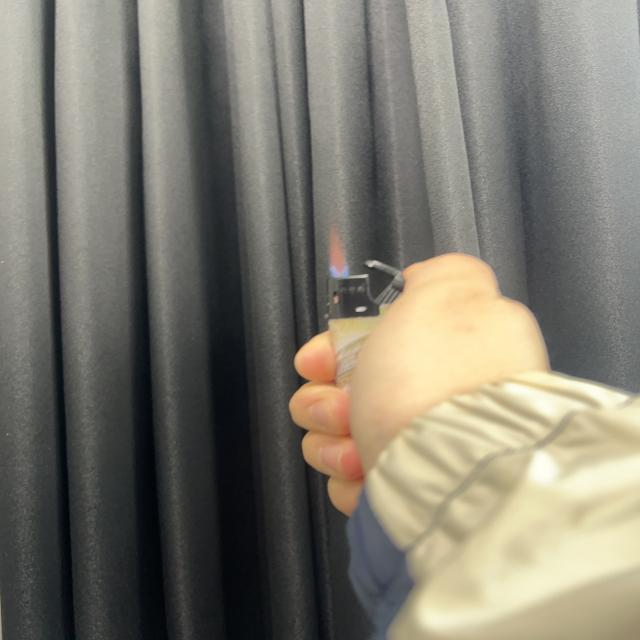fire: (323, 229, 350, 277)
